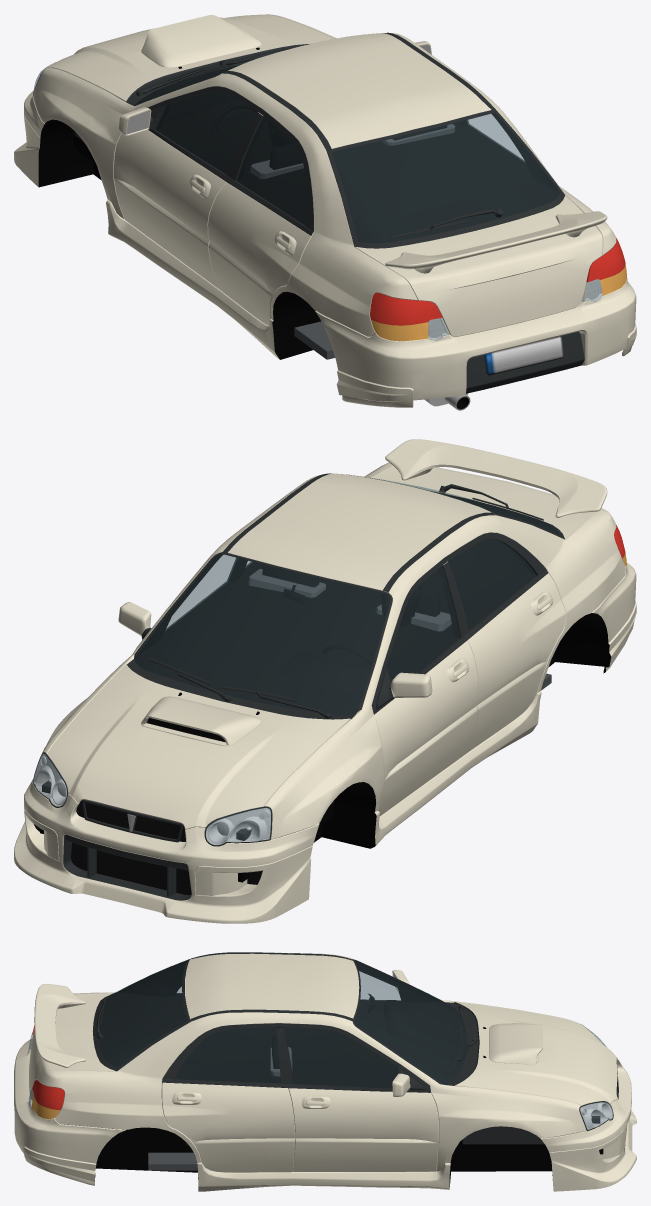
The model's file is sedan-pearl.gltf.
3 views of the same model, one above another, from view 1: azimuth 30°, elevation 25°; view 2: azimuth 150°, elevation 25°; view 3: azimuth 270°, elevation 25° (orthographic). The views are drawn at different scales.
Visible parts, largest first — view 1: frame, boot, door-lf, door-lr, bonnet, door-rr; view 2: frame, bonnet, door-lf, door-lr, boot, door-rf; view 3: frame, door-rf, door-rr, bonnet, boot, door-lf.
Part boxes in pixels (left/top/right/bottom): frame: left=14, top=14, right=636, bottom=410; boot: left=354, top=195, right=607, bottom=336; door-lf: left=113, top=86, right=262, bottom=288; door-lr: left=208, top=109, right=313, bottom=325; bonnet: left=47, top=14, right=333, bottom=102; door-rr: left=466, top=114, right=525, bottom=162; frame: left=14, top=462, right=636, bottom=923; bonnet: left=47, top=664, right=351, bottom=828; door-lf: left=371, top=558, right=478, bottom=816; door-lr: left=442, top=532, right=565, bottom=750; boot: left=372, top=439, right=607, bottom=539; door-rf: left=118, top=555, right=237, bottom=639; frame: left=14, top=952, right=636, bottom=1191; door-rf: left=280, top=1023, right=439, bottom=1171; door-rr: left=161, top=1023, right=295, bottom=1172; bonnet: left=454, top=1002, right=617, bottom=1105; boot: left=29, top=983, right=116, bottom=1097; door-lf: left=360, top=970, right=409, bottom=1000.
Size of the model in its own units: 1.95 by 1.3 by 4.44.
Materials: 9 (1 with a texture image).
